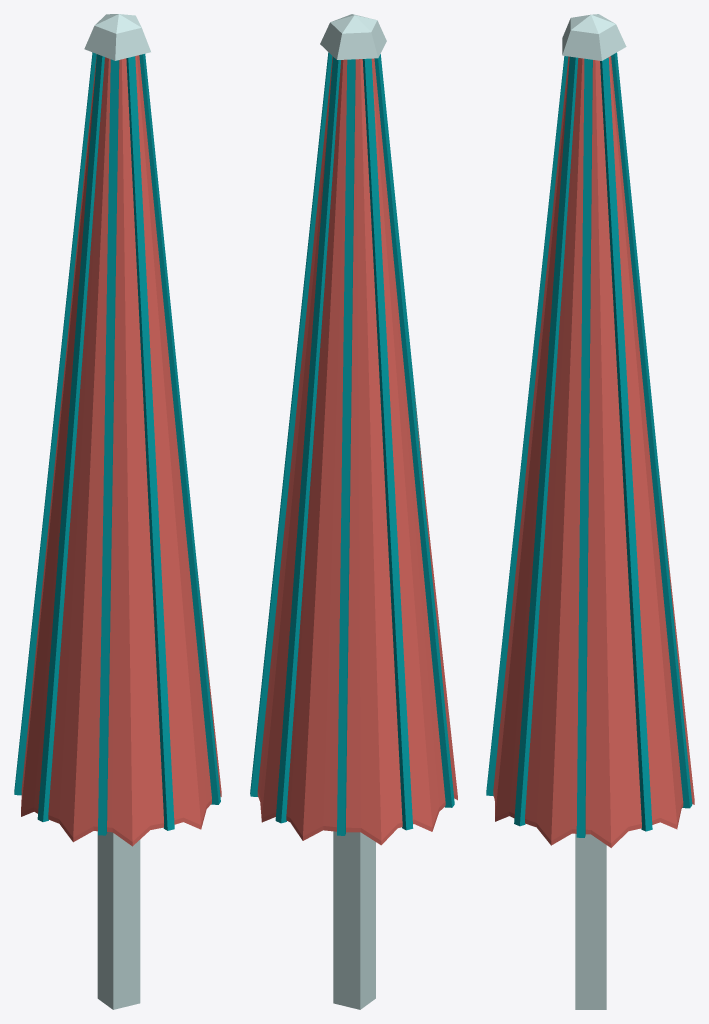
Rendered from parasol.glb.
The picture shows the model from 3 angles, left to right: view 1: azimuth 30°, elevation 25°; view 2: azimuth 150°, elevation 25°; view 3: azimuth 270°, elevation 25°; orthographic projection.
Visible parts, largest first — view 1: Cover, Cover_sticks, Stick; view 2: Cover, Cover_sticks, Stick; view 3: Cover, Cover_sticks, Stick.
Part boxes in pixels (<box>): Cover: <box>21,54,221,846</box>; Cover_sticks: <box>14,52,220,835</box>; Stick: <box>84,14,150,1009</box>; Cover: <box>257,56,457,845</box>; Cover_sticks: <box>250,52,454,835</box>; Stick: <box>320,14,386,1009</box>; Cover: <box>493,56,694,847</box>; Cover_sticks: <box>486,52,692,837</box>; Stick: <box>562,14,626,1009</box>.
Bounding box in the file's own units: 0.5164 × 2.71 × 0.517.
